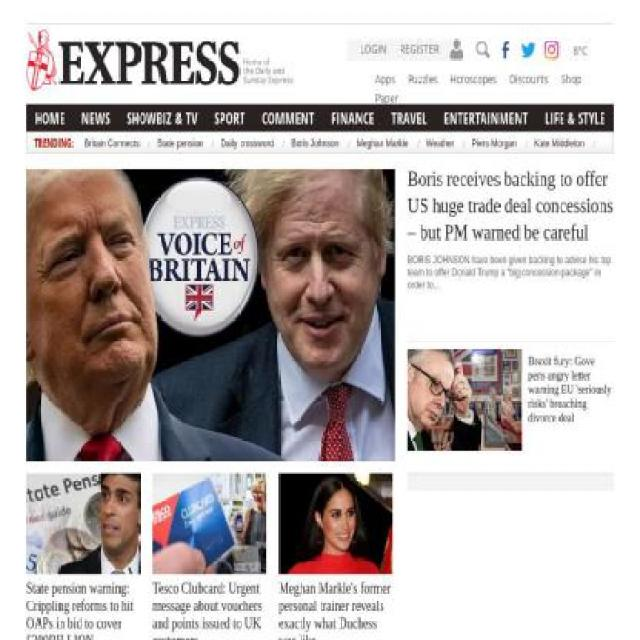button: (408, 349, 614, 451), (25, 473, 141, 639), (152, 473, 268, 639), (278, 473, 394, 639), (26, 28, 300, 92), (435, 104, 537, 131), (119, 104, 206, 131), (561, 26, 614, 68), (537, 104, 614, 131), (254, 104, 323, 131), (323, 104, 383, 131), (383, 104, 435, 131), (26, 104, 74, 131), (206, 104, 254, 131), (443, 72, 503, 92), (74, 104, 118, 131), (502, 72, 555, 92), (393, 39, 445, 59), (402, 72, 444, 92), (354, 39, 392, 59), (368, 72, 402, 92), (554, 72, 588, 92), (368, 92, 399, 112), (474, 38, 491, 60), (498, 39, 513, 59), (521, 39, 536, 59), (544, 39, 559, 59)
